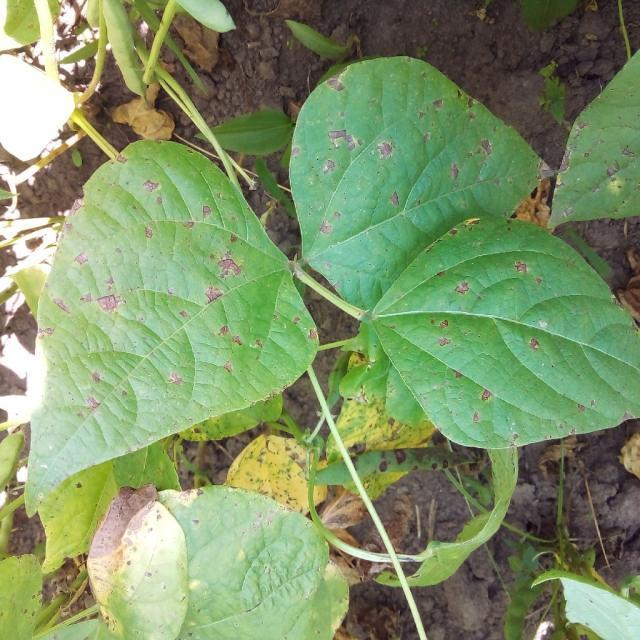hawar: (54, 166, 260, 354), (381, 229, 589, 401), (307, 89, 450, 191), (89, 478, 202, 560)
